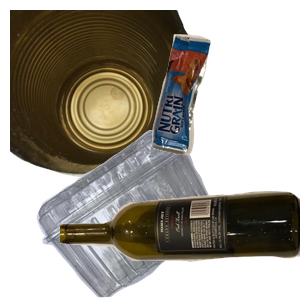glass: (60, 189, 300, 300)
metal: (10, 10, 200, 180)
plastic: (34, 130, 246, 300)
trash: (149, 31, 300, 179)
